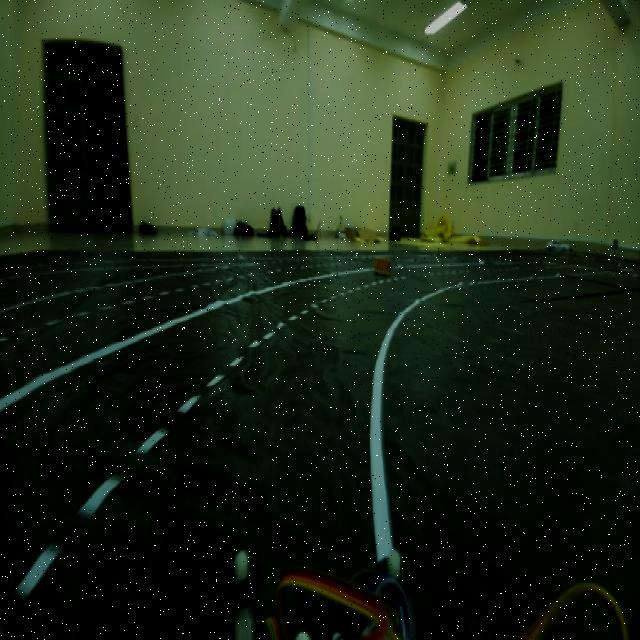roadblock: (371, 250, 393, 280)
